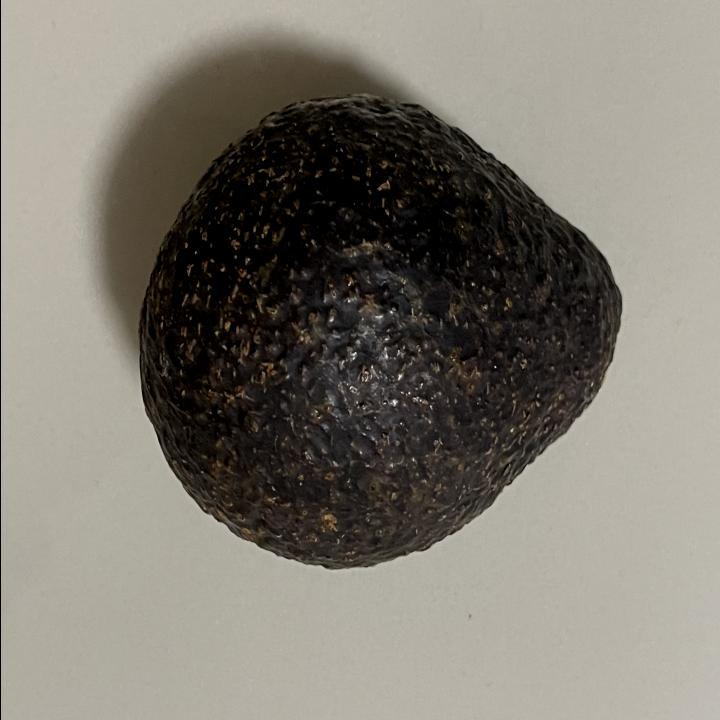Level3: (131, 83, 632, 578)
